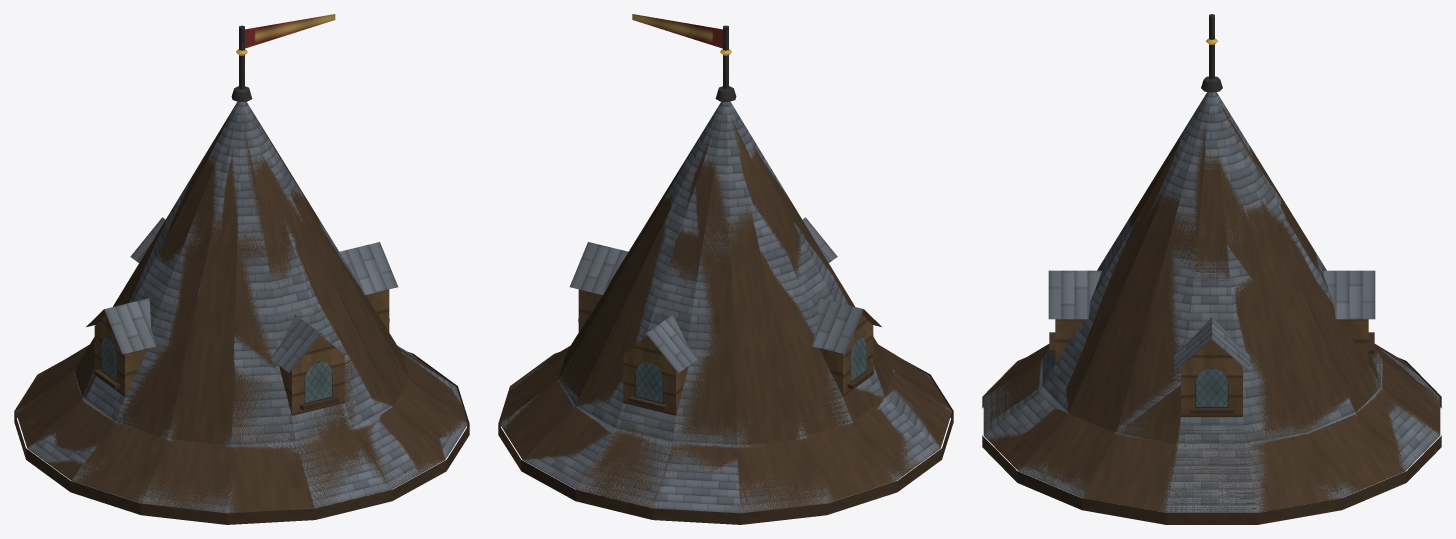
File: tower_cs_round_roof.obj
3 views of the same model, side by side, from view 1: azimuth 30°, elevation 25°; view 2: azimuth 150°, elevation 25°; view 3: azimuth 270°, elevation 25° (orthographic). The views are drawn at different scales.
Visible parts, largest first — view 1: tower_cs_round_roof, tower_cs_round_roof_pennant; view 2: tower_cs_round_roof, tower_cs_round_roof_pennant; view 3: tower_cs_round_roof.
Part boxes in pixels (x1=…): tower_cs_round_roof: x1=14, y1=25, x2=469, y2=524; tower_cs_round_roof_pennant: x1=245, y1=14, x2=335, y2=48; tower_cs_round_roof: x1=498, y1=25, x2=953, y2=524; tower_cs_round_roof_pennant: x1=632, y1=14, x2=722, y2=48; tower_cs_round_roof: x1=982, y1=14, x2=1441, y2=524.
Size of the model in its own units: 6.64 by 6.58 by 6.64.
1 material, 1 textured.
